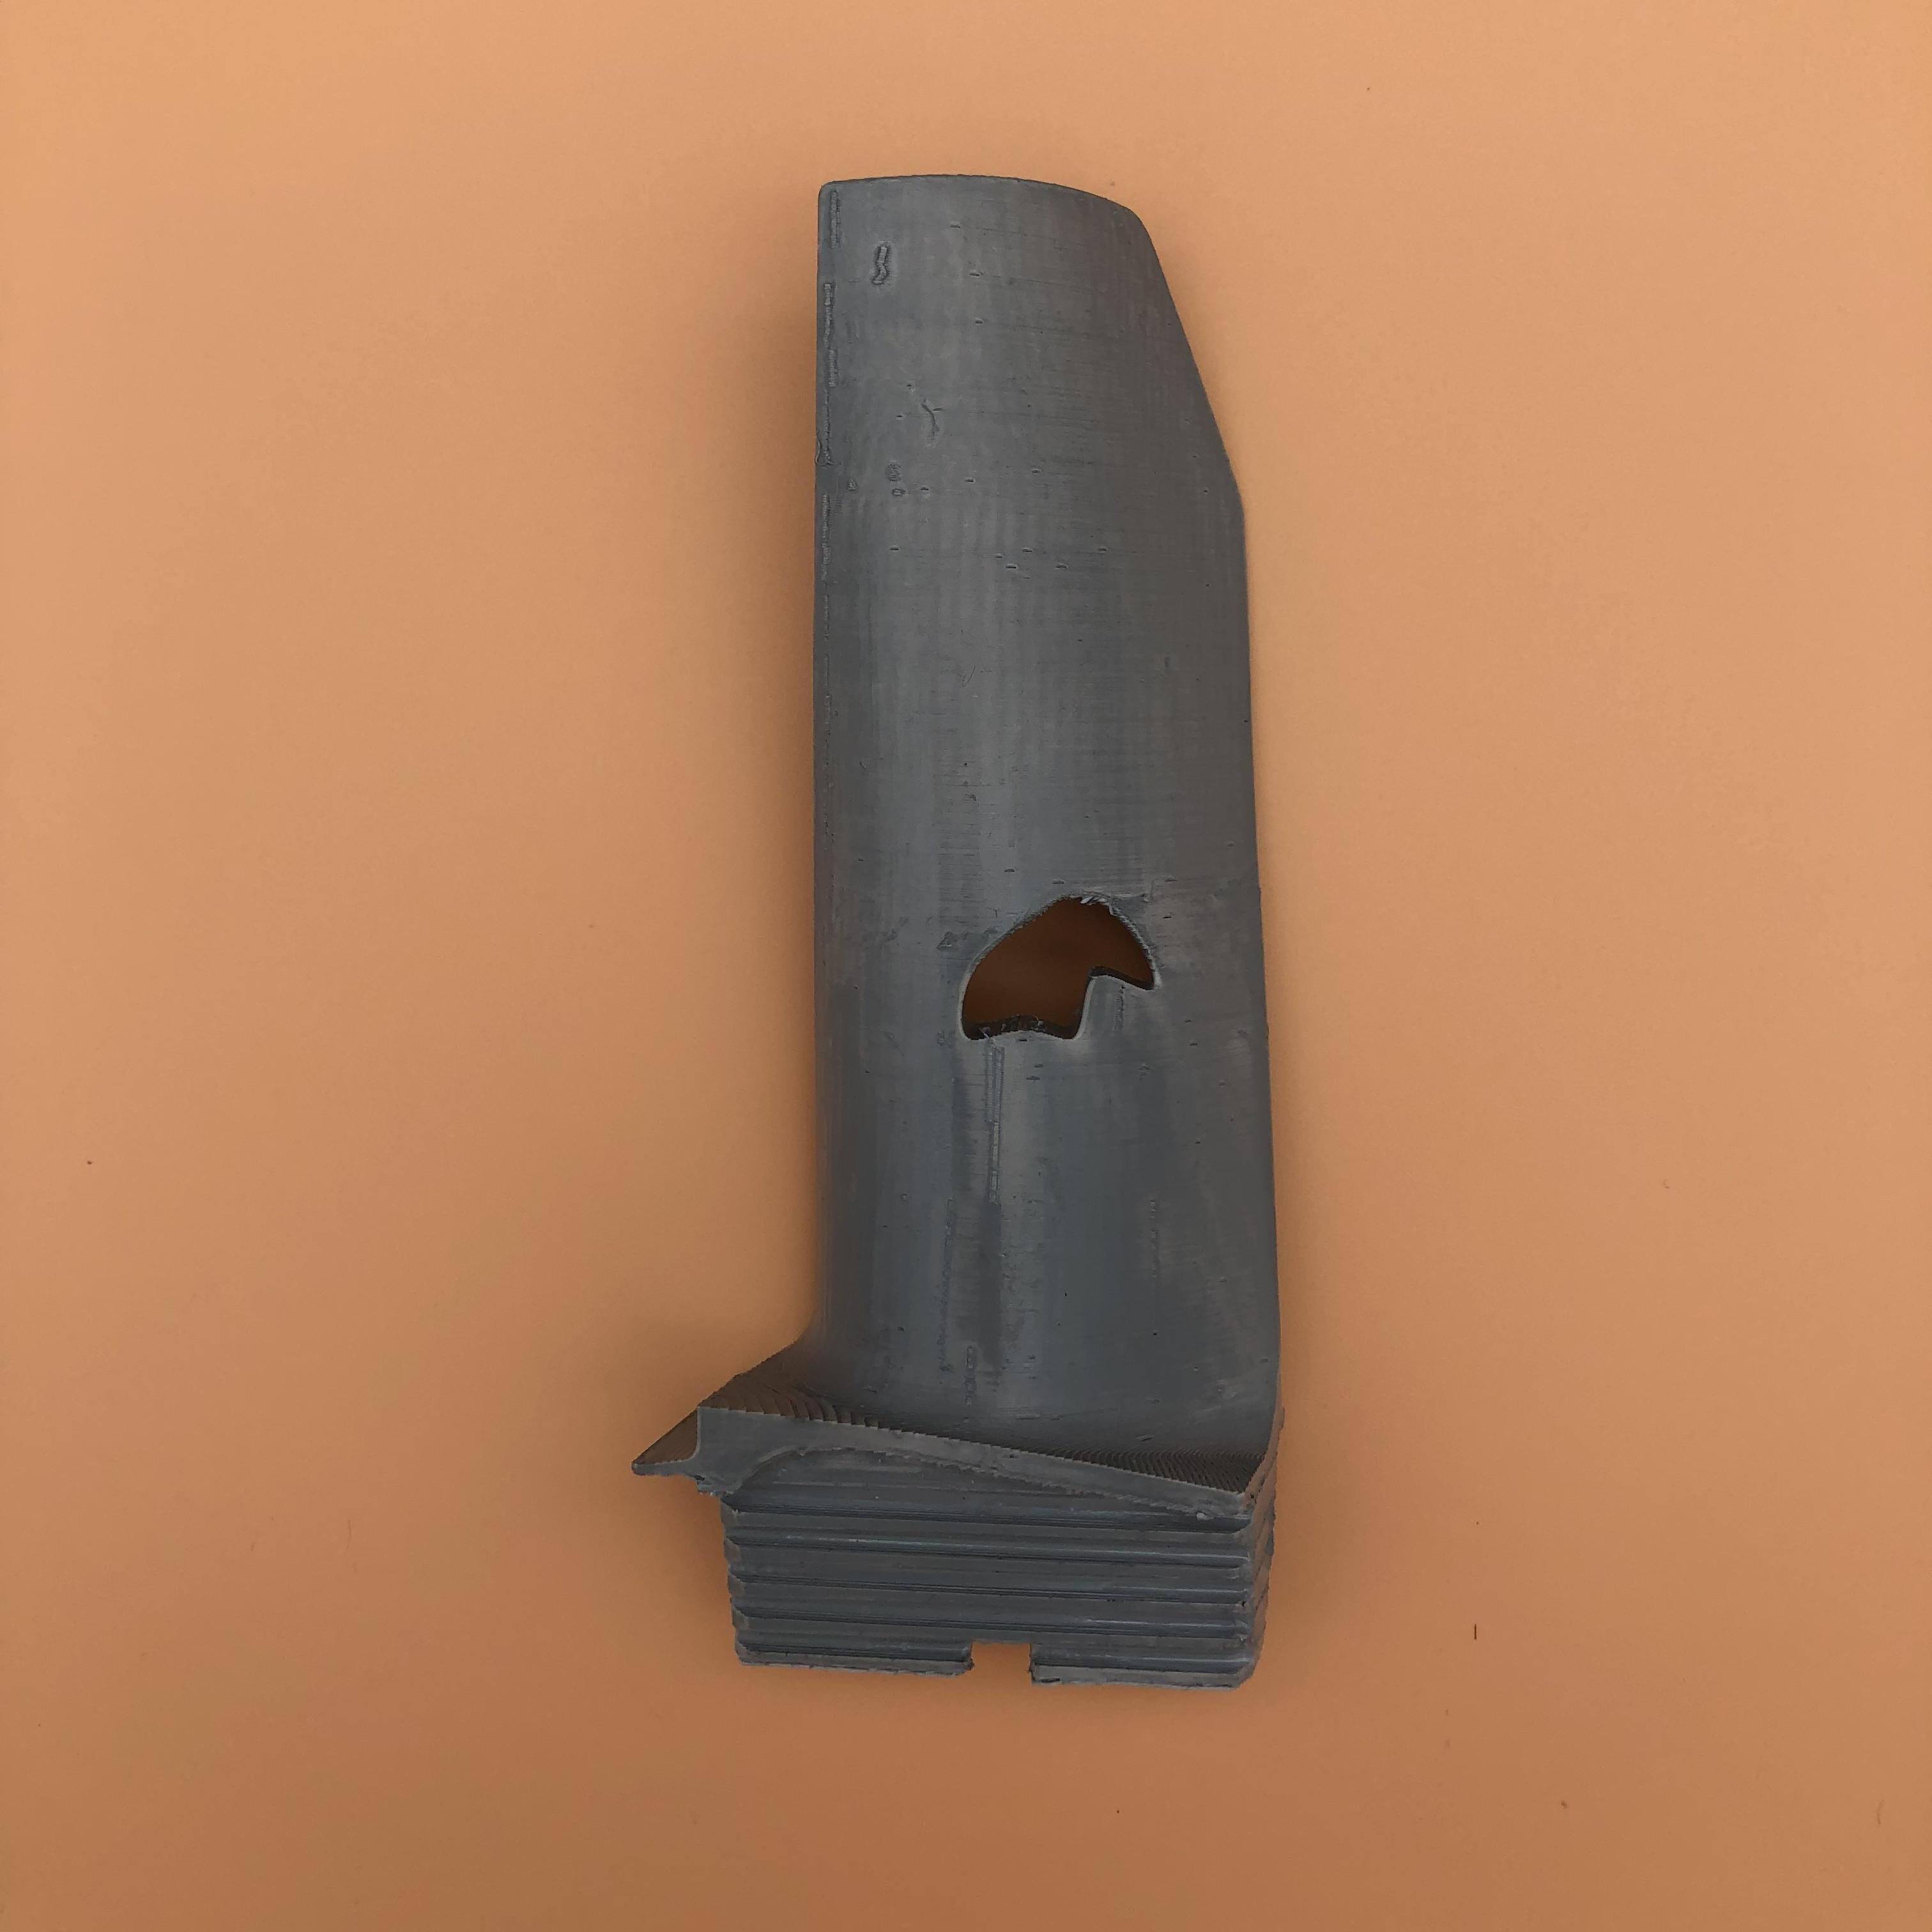breakdown: (961, 893, 1166, 1051)
